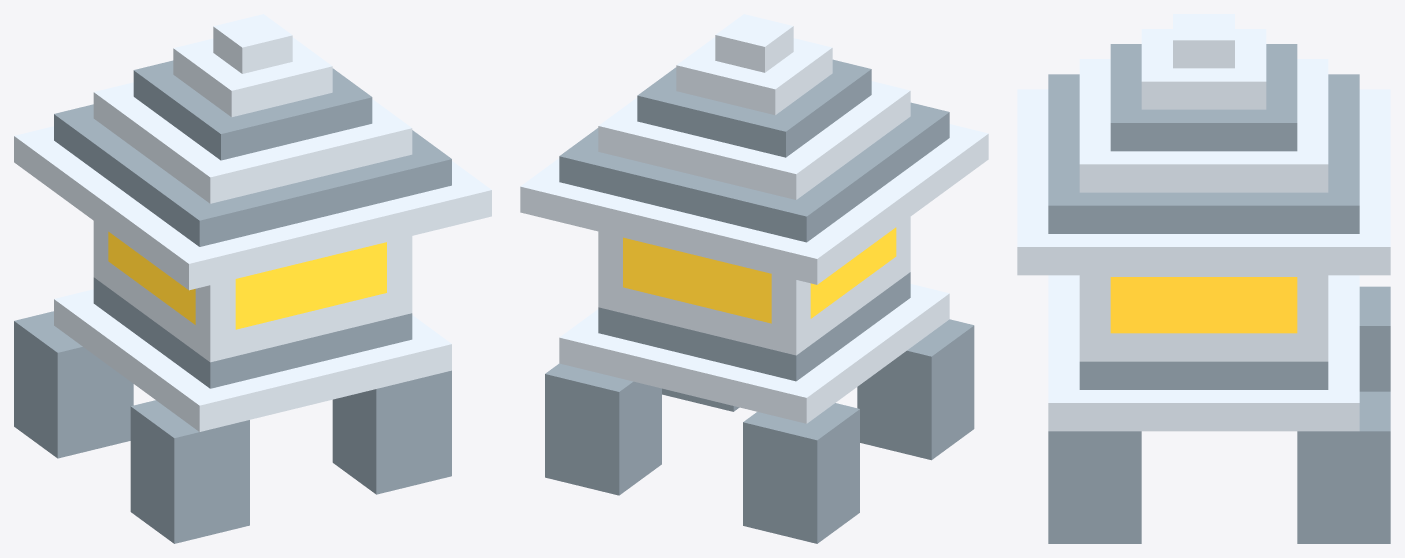
The model's file is voxel-stonelantern.glb.
The picture shows the model from 3 angles, left to right: view 1: azimuth 30°, elevation 25°; view 2: azimuth 150°, elevation 25°; view 3: azimuth 270°, elevation 25°; orthographic projection. The views are drawn at different scales.
Visible parts, largest first — view 1: stonelantern; view 2: stonelantern; view 3: stonelantern.
Part boxes in pixels (bbox=[...]): stonelantern: bbox=[14, 14, 491, 543]; stonelantern: bbox=[520, 14, 988, 543]; stonelantern: bbox=[1017, 14, 1390, 543].
Size of the model in its own units: 1.8 by 2.4 by 1.8.
